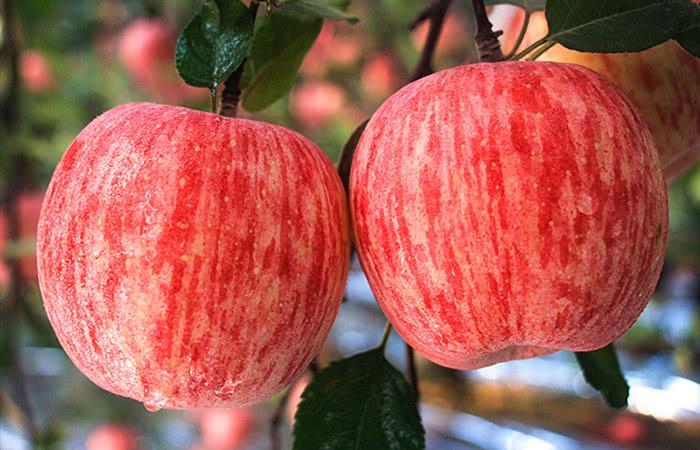apple: (352, 58, 667, 369), (33, 101, 347, 409)
